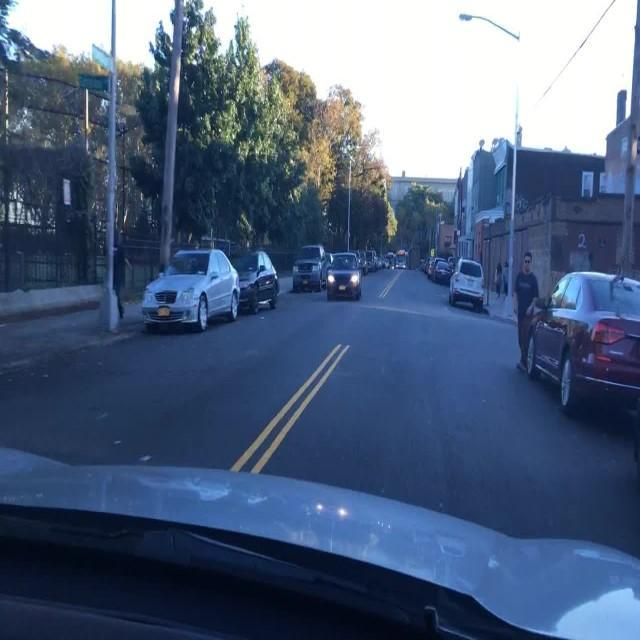normal: (519, 266, 640, 416), (140, 247, 242, 332), (232, 252, 282, 313), (449, 258, 487, 311), (290, 245, 331, 292), (326, 253, 364, 302), (429, 259, 455, 285)
